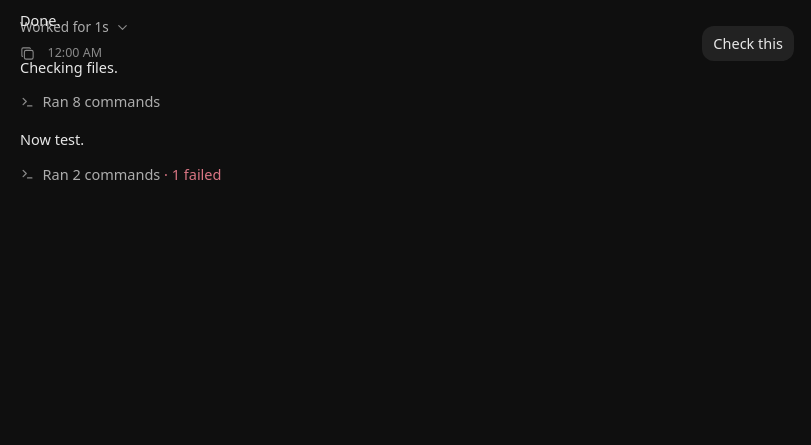
completed activity disclosure › groups consecutive commands within commentary and keeps output behind two reveals
This screenshot has width=811, height=445.
Earlier steps of the test are not shown.
Later steps or results of the test are not shown.
Expected: the text "Checking files." is shown, x1=20 y1=57 x2=118 y2=77
Expected: the text "Now test." is shown, x1=20 y1=130 x2=84 y2=150
Click the button "Ran 8 commands" at (101, 101), box x1=16 y1=88 x2=790 y2=118
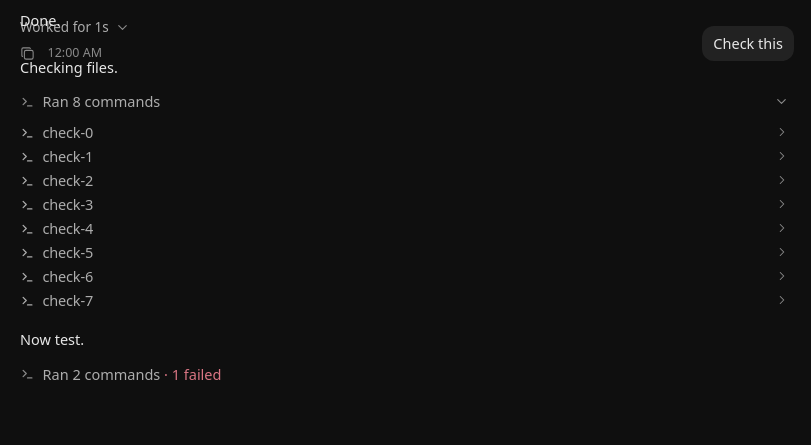
Expected: the text "output-0" is not shown
Expected: the number of elements with class "aux--command" is 8
Click the button "check-0" at (68, 132), box x1=16 y1=120 x2=790 y2=144
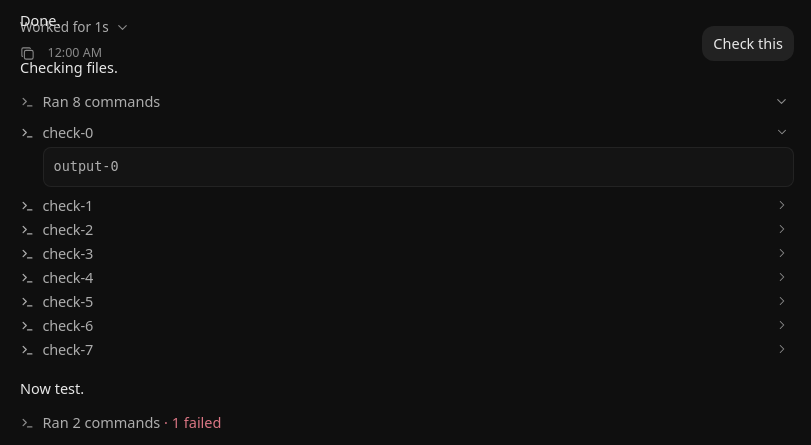
Expected: the text "output-0" is shown, x1=42 y1=148 x2=794 y2=187
